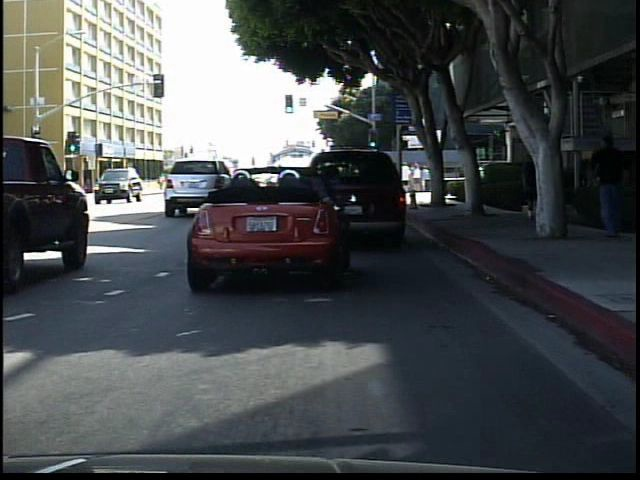person: (587, 132, 631, 239), (514, 146, 542, 227)
